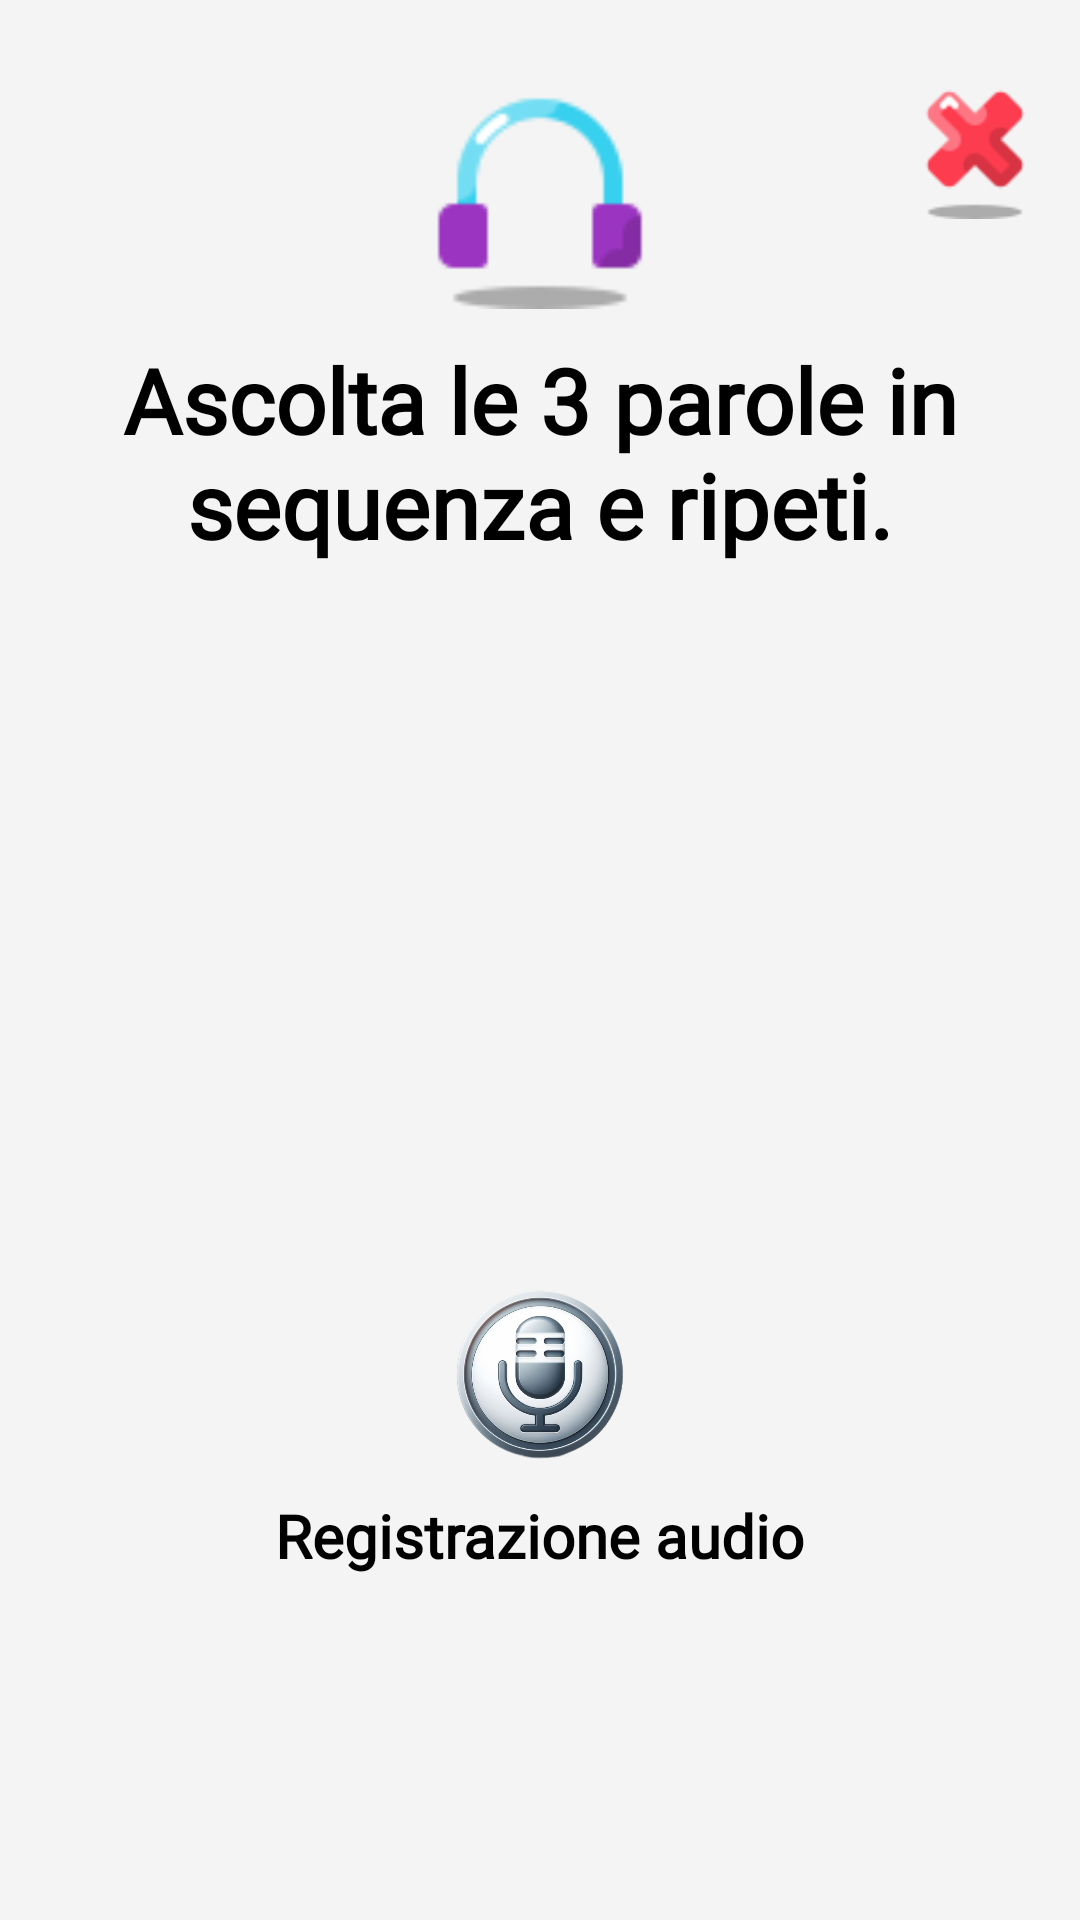

Named icons in this screenshot (1080x1920) and their centers, point (x, y):
exit: point (975, 155)
listen audio: point (540, 203)
microphone: point (540, 1375)
